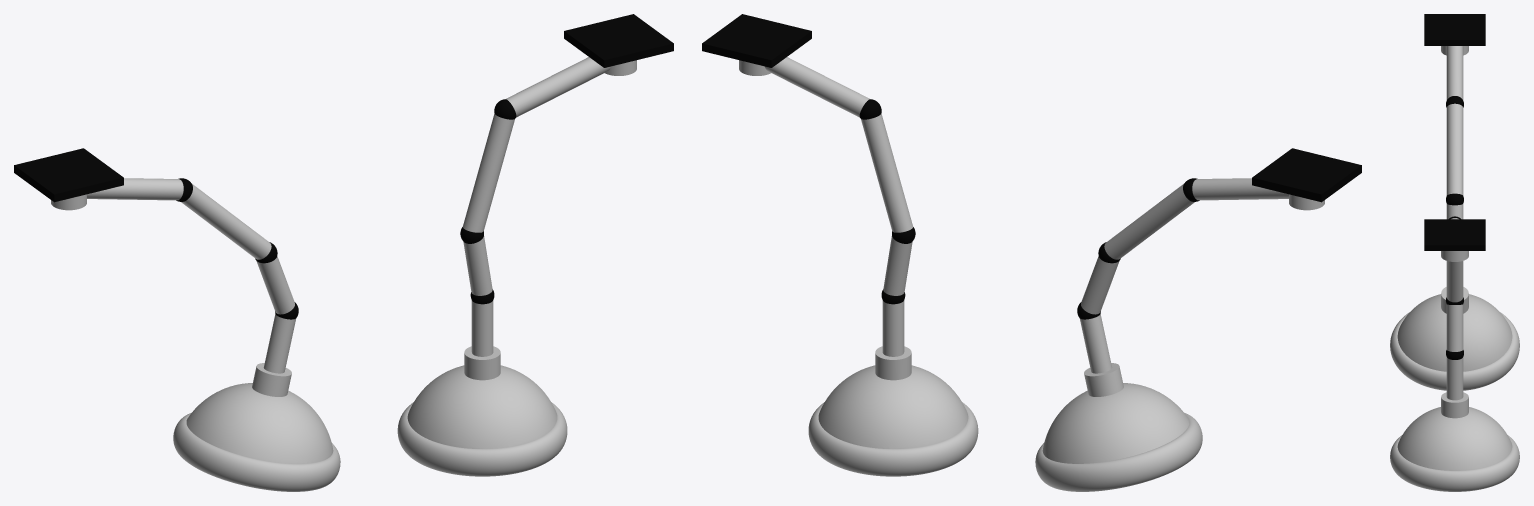
File: or_lamps.glb
The picture shows the model from 3 angles, left to right: view 1: azimuth 30°, elevation 25°; view 2: azimuth 150°, elevation 25°; view 3: azimuth 270°, elevation 25°; orthographic projection. The views are drawn at different scales.
Visible parts, largest first — view 1: Object_3, Object_4, Object_5, Object_6; view 2: Object_3, Object_4, Object_5, Object_6; view 3: Object_3, Object_4, Object_5, Object_6.
Boxes of the visible parts, left/top/right/bottom form: Object_3: left=51, top=60, right=636, bottom=476; Object_4: left=173, top=57, right=611, bottom=491; Object_5: left=14, top=14, right=673, bottom=319; Object_6: left=460, top=99, right=516, bottom=304; Object_3: left=739, top=60, right=1324, bottom=476; Object_4: left=764, top=57, right=1202, bottom=491; Object_5: left=702, top=14, right=1361, bottom=319; Object_6: left=859, top=99, right=915, bottom=304; Object_3: left=1390, top=46, right=1519, bottom=491; Object_4: left=1390, top=218, right=1519, bottom=400; Object_5: left=1424, top=14, right=1485, bottom=250; Object_6: left=1446, top=216, right=1463, bottom=359.
Bounding box in the file's own units: 98.71 × 56.91 × 23.43.
Materials: 3 (3 with a texture image).
